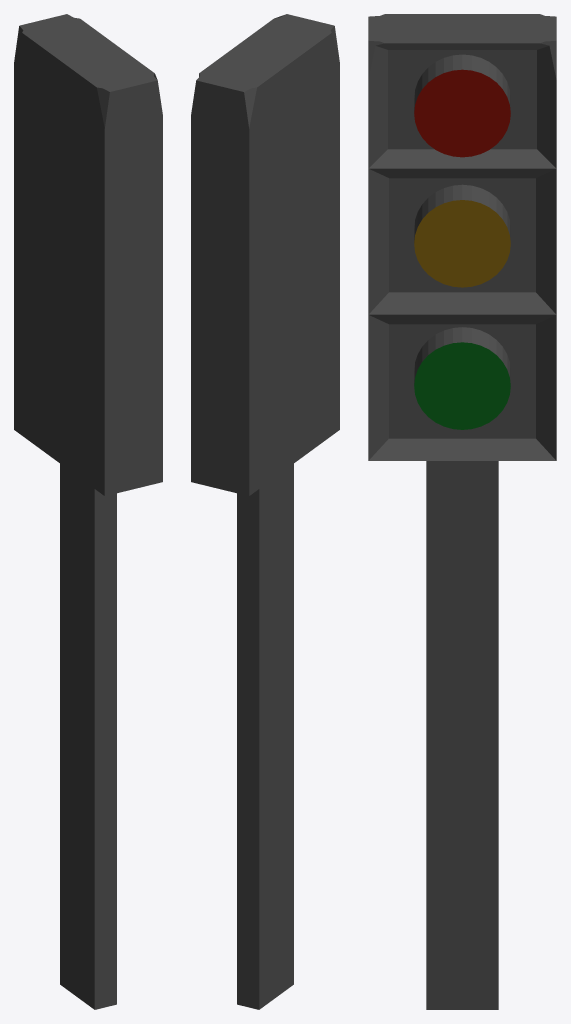
The model's file is semafor.fbx.
3 renders of one model, left to right at view 1: azimuth 30°, elevation 25°; view 2: azimuth 150°, elevation 25°; view 3: azimuth 270°, elevation 25°, orthographic. The views are drawn at different scales.
Parts seen in each view (by area): view 1: semafor; view 2: semafor; view 3: semafor, cervena, zelena, zluta.
Part boxes in pixels (box(x1,y1,x2,y2)): semafor: box(14, 14, 162, 1009); semafor: box(191, 14, 339, 1009); semafor: box(368, 14, 556, 1009); cervena: box(414, 69, 510, 157); zelena: box(414, 342, 510, 429); zluta: box(414, 200, 510, 287).
Bounding box in the file's own units: 34.07 × 406 × 71.01.
